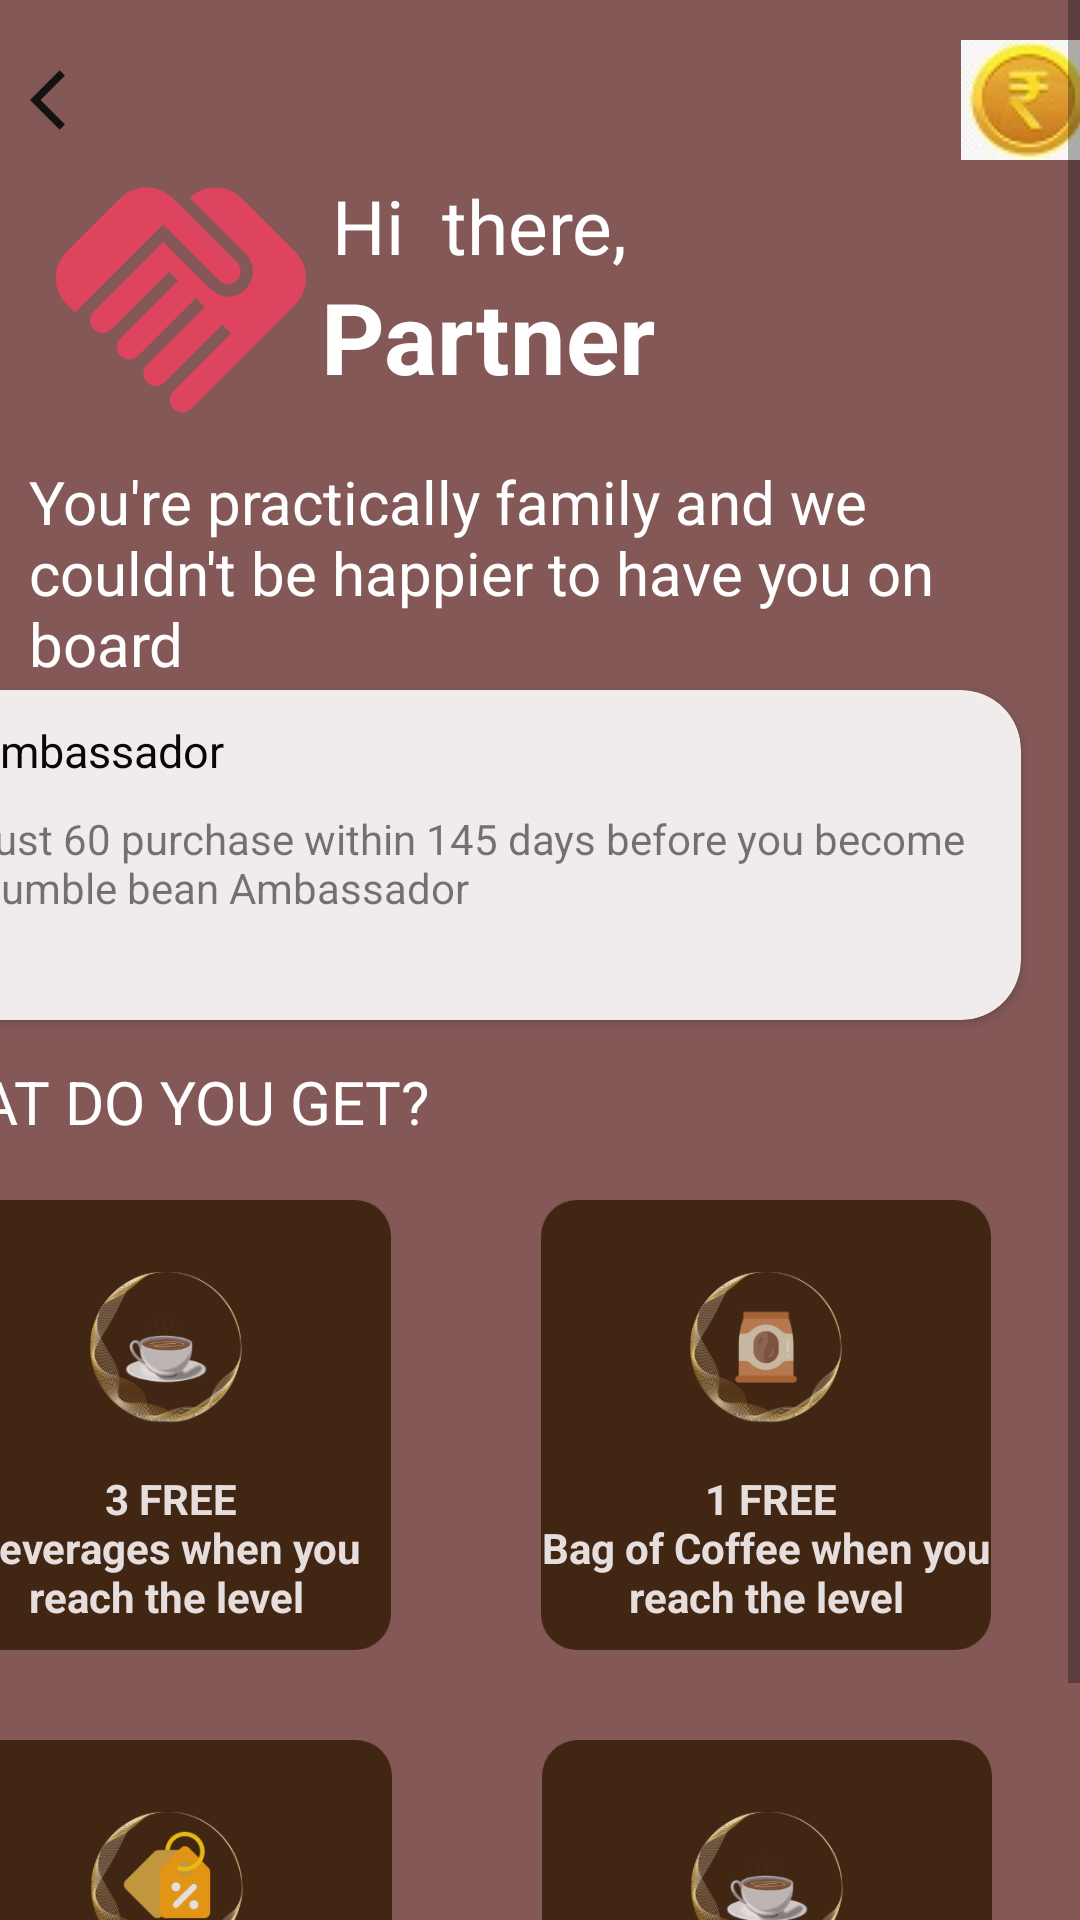

Icon bounding boxes for this 1080px×1920px phone screenshot, format [x1, y1, x2, y2]:
handshake: [56, 187, 306, 413]
